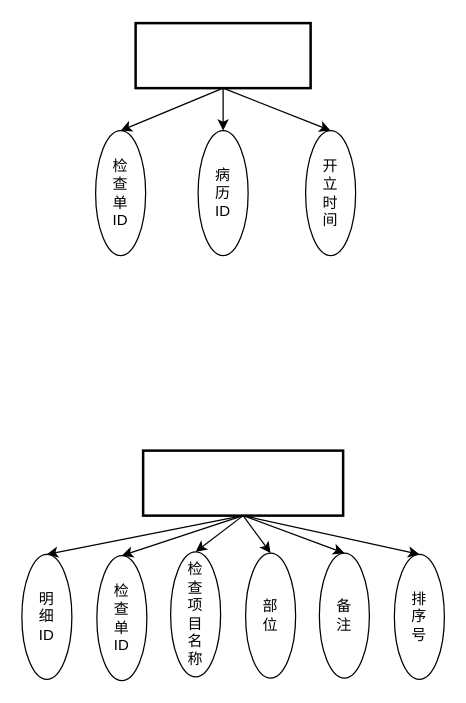
This 466x703 diagram has some shape labels left out. Here are the shapes that lost their labels. From the top down, the centre of each, then its label:
At point (222, 55): "检查单".
At point (242, 482): "检查单明细".
